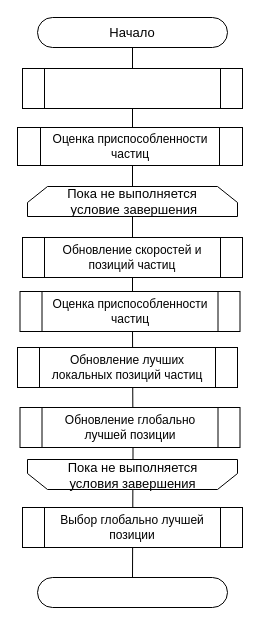
Image size: 260x625. Some labels were removed from this diagram. The centre of each missing label's shape, as x and y in pixels:
"Инициализация скоростей и позиций частиц" goes at pixel 132 88.
"Конец" goes at pixel 132 592.
